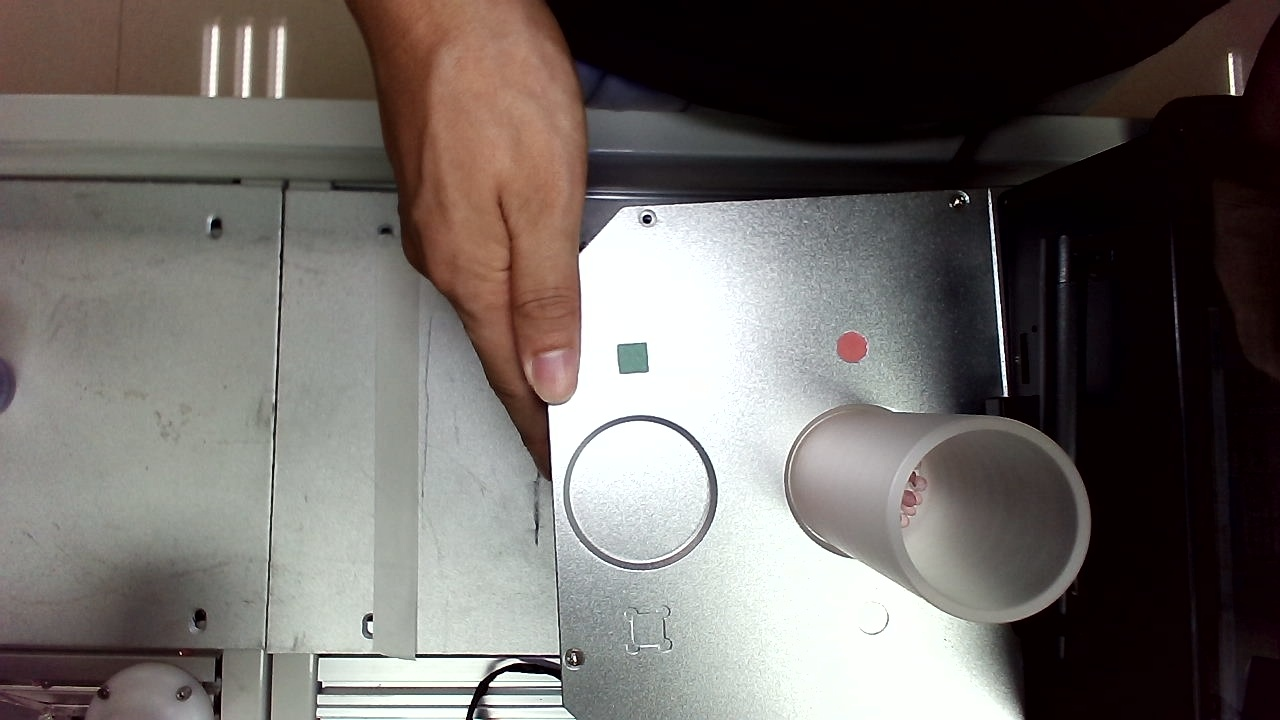bad: (769, 600, 816, 647), (254, 88, 302, 133), (282, 586, 327, 634), (745, 3, 786, 47), (258, 164, 301, 205), (705, 630, 746, 671), (679, 71, 720, 112), (820, 326, 860, 366), (285, 27, 325, 66), (397, 166, 436, 206), (837, 132, 875, 173), (540, 427, 576, 469), (784, 317, 823, 355), (358, 91, 397, 129), (806, 20, 842, 60), (393, 451, 430, 489), (409, 239, 451, 272), (845, 497, 884, 532), (818, 280, 854, 316), (764, 516, 798, 549), (841, 200, 877, 228)
defact: (705, 106, 740, 144)
pass: (835, 378, 881, 428), (640, 124, 680, 173), (465, 498, 508, 542), (628, 577, 669, 623), (369, 476, 409, 520), (298, 491, 340, 531), (573, 295, 612, 337), (744, 630, 782, 672), (587, 258, 625, 299), (449, 607, 484, 651), (540, 302, 578, 340), (532, 12, 570, 50), (761, 218, 799, 255), (682, 594, 718, 632), (803, 44, 837, 84), (670, 635, 706, 672), (556, 35, 590, 73), (529, 50, 560, 86)
toolong: (727, 393, 792, 443), (287, 139, 331, 201), (655, 548, 696, 608)
unpass: (267, 428, 313, 473), (832, 226, 880, 268), (468, 564, 506, 614), (839, 1, 875, 53), (370, 316, 410, 358), (294, 71, 337, 110), (557, 533, 596, 573), (774, 26, 810, 69), (805, 512, 842, 552), (502, 30, 539, 70), (401, 284, 439, 322), (621, 282, 658, 321), (852, 530, 889, 569), (323, 34, 360, 72), (272, 202, 311, 238), (513, 338, 548, 378), (565, 4, 600, 43), (793, 568, 827, 604), (839, 166, 874, 200), (766, 549, 800, 583)
